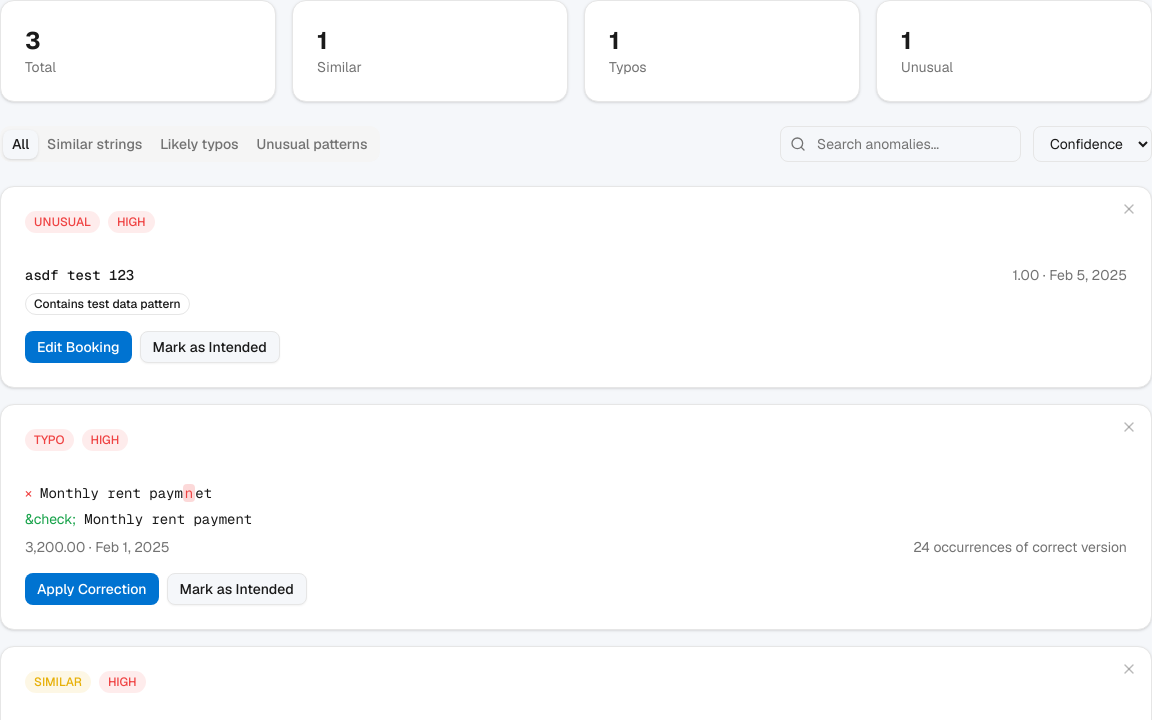
Test: AnomalyList › shows counts in all-reviewed state when items are dismissed and marked as intended
Dismiss one card
Click the 1st button named "dismiss" at {"x": 1129, "y": 209}, box [1115, 195, 1143, 223]
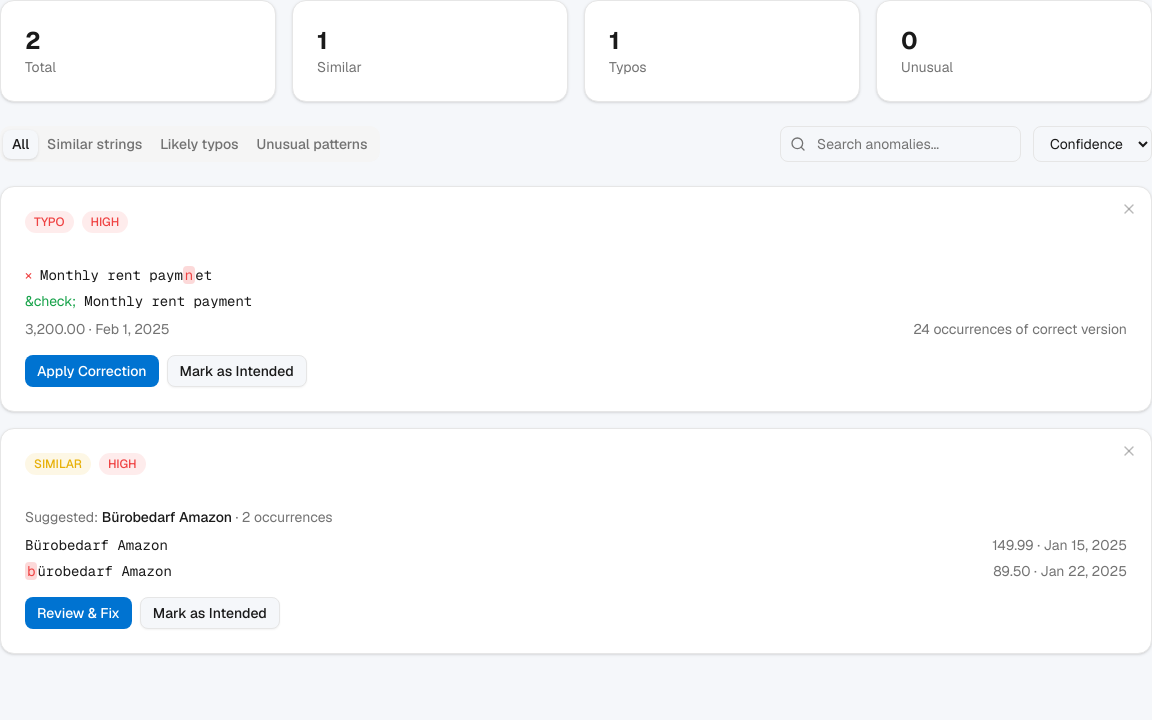
Mark two as intended
Click the button "Mark as Intended" below "3,200.00" at {"x": 237, "y": 371}, box [167, 355, 307, 387]
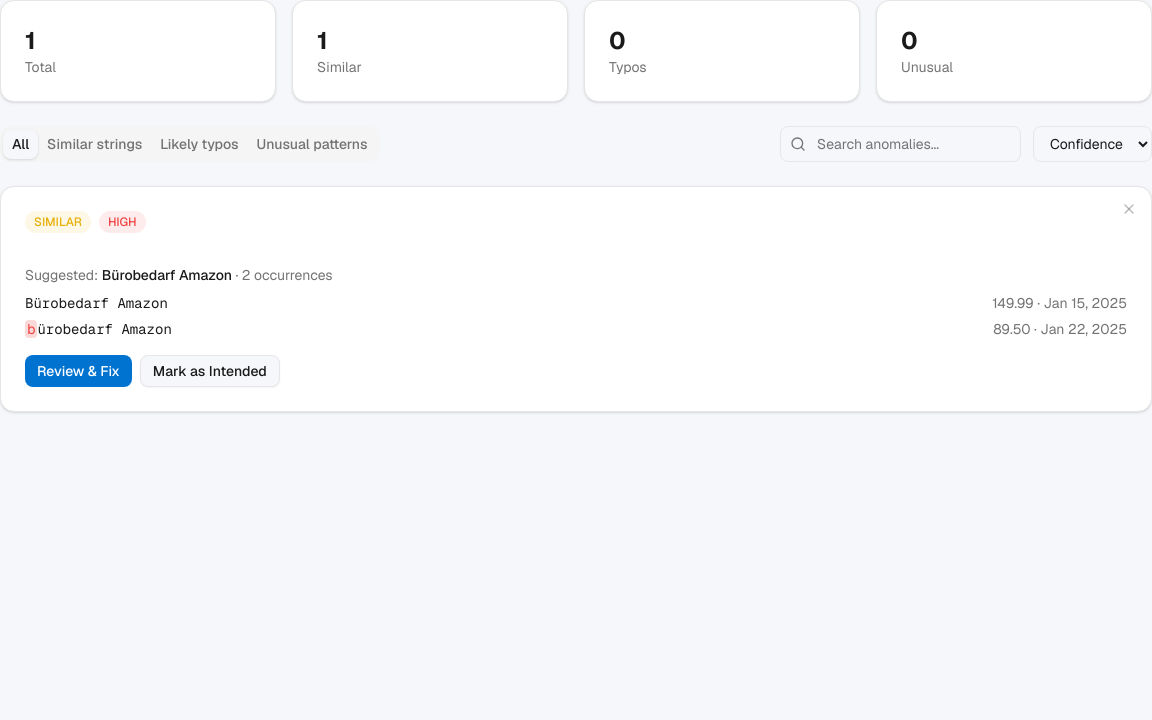
Click the button "Mark as Intended" at {"x": 210, "y": 371}, box [140, 355, 280, 387]
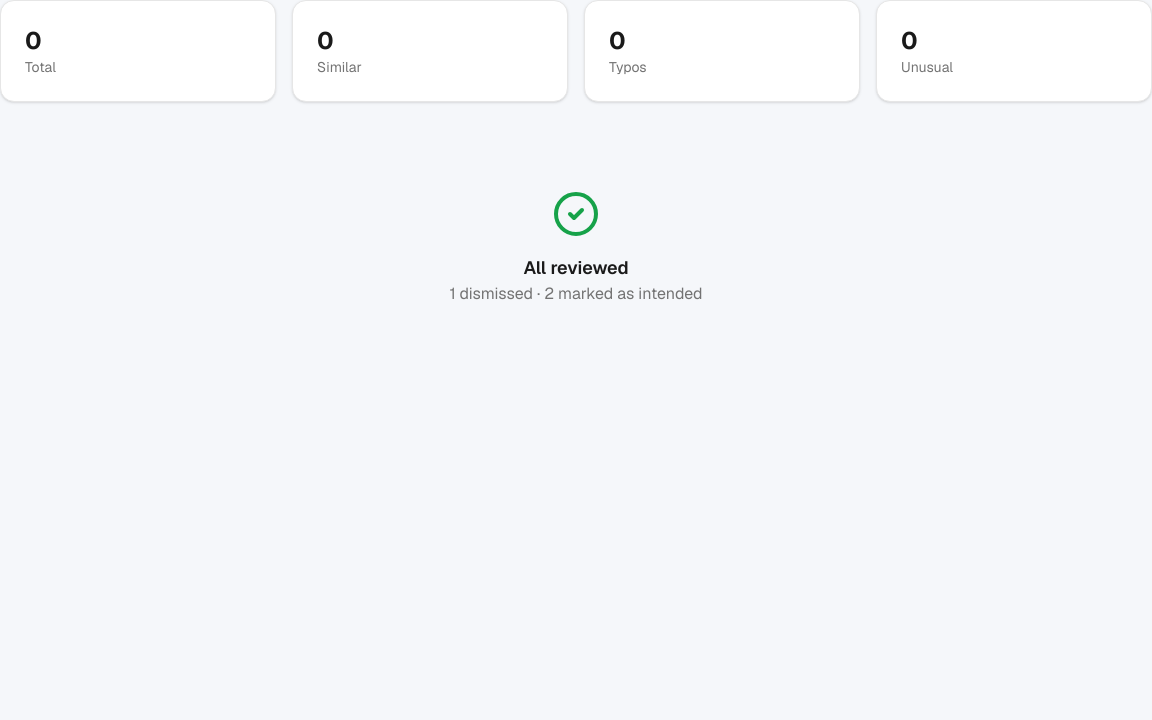
Check: the heading "All reviewed" is shown, box [523, 254, 629, 282]
Check: the text "1 dismissed · 2 marked as intended" is shown, box [449, 282, 703, 306]
